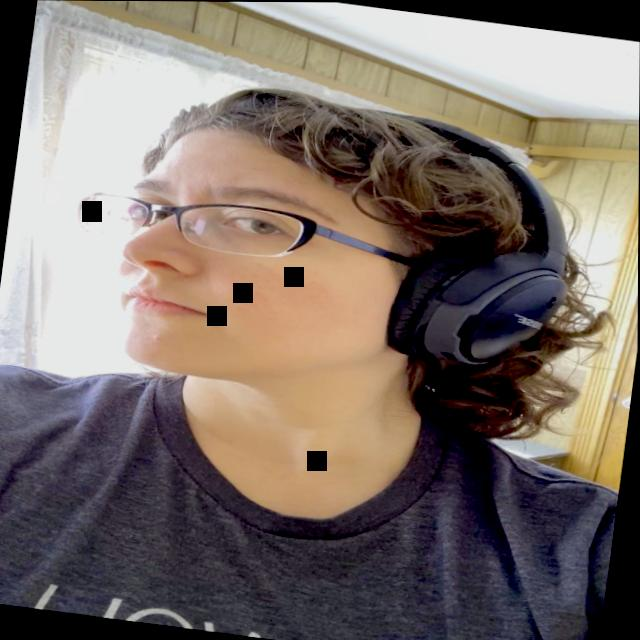NO-Mask: (81, 102, 457, 409)
